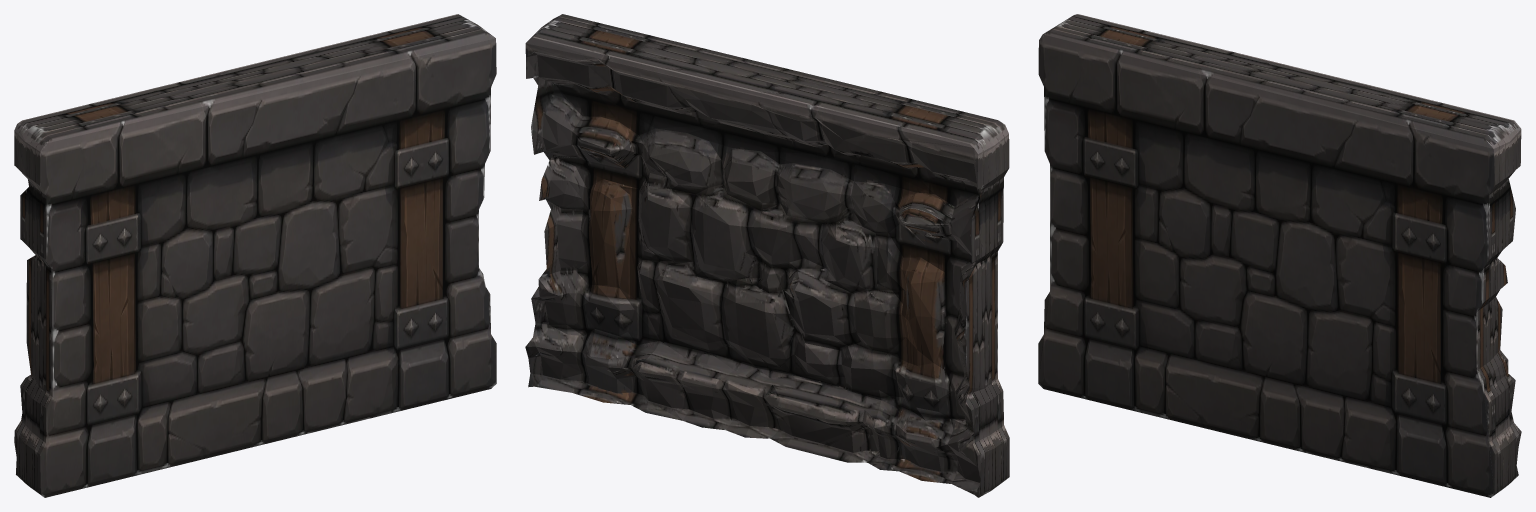
File: SM_Dungeon_Wall_A_LOD0.glb
3 views of the same model, side by side, from view 1: azimuth 30°, elevation 25°; view 2: azimuth 150°, elevation 25°; view 3: azimuth 330°, elevation 25° (orthographic).
Visible parts, largest first — view 1: SM_Dungeon_Wall_A_LOD0; view 2: SM_Dungeon_Wall_A_LOD0; view 3: SM_Dungeon_Wall_A_LOD0.
Boxes of the visible parts, bbox=[...] form: SM_Dungeon_Wall_A_LOD0: bbox=[14, 14, 496, 497]; SM_Dungeon_Wall_A_LOD0: bbox=[525, 14, 1009, 497]; SM_Dungeon_Wall_A_LOD0: bbox=[1038, 14, 1521, 497].
Size of the model in its own units: 4 by 3 by 0.4582.
1 material, 1 textured.
